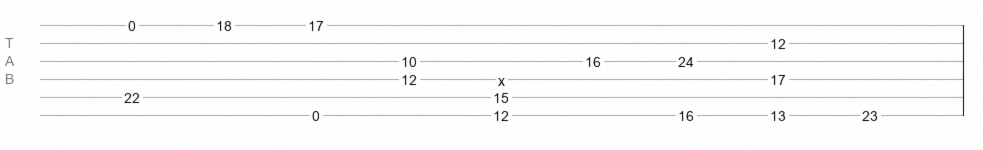0: (128, 18, 136, 28), (312, 108, 320, 118)
10: (401, 54, 417, 64)
12: (401, 72, 417, 82), (493, 108, 509, 118), (770, 36, 786, 46)
13: (770, 108, 786, 118)
15: (493, 90, 509, 100)
16: (585, 54, 601, 64), (678, 108, 694, 118)
17: (308, 18, 324, 28), (770, 72, 786, 82)
18: (216, 18, 232, 28)
22: (124, 90, 140, 100)
23: (862, 108, 878, 118)
24: (678, 54, 694, 64)
x: (498, 73, 505, 81)
